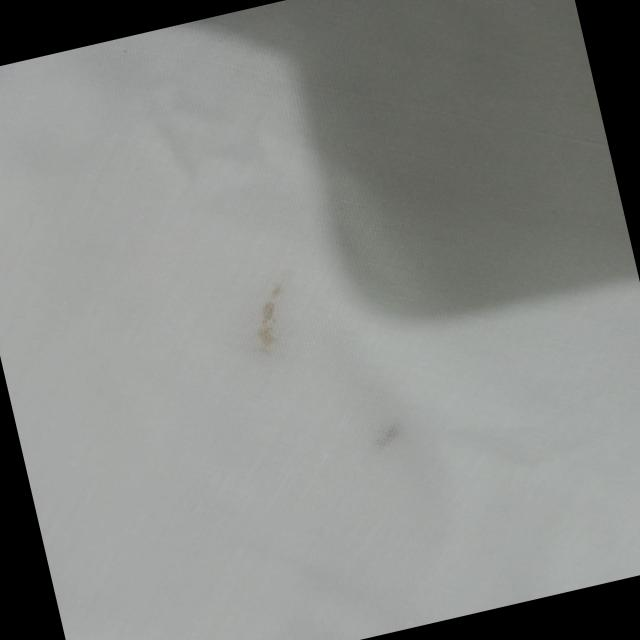stain: (231, 268, 319, 362), (350, 408, 428, 464)
